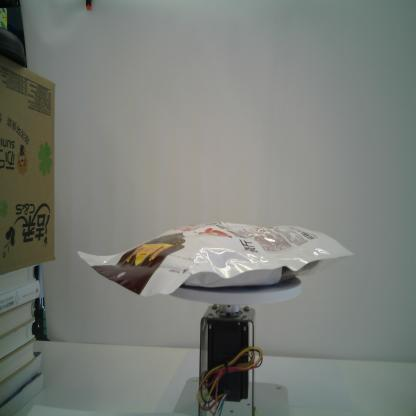Dried Food: (76, 220, 354, 297)
